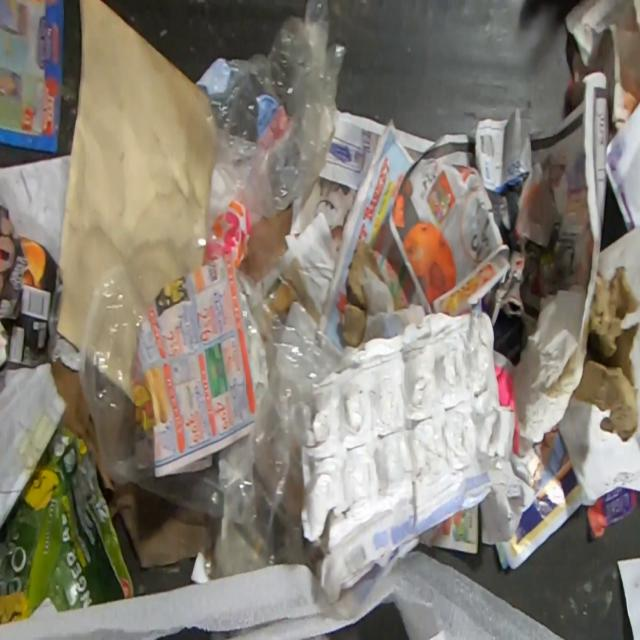cardboard: (50, 358, 208, 570), (0, 424, 135, 626), (573, 265, 640, 445), (0, 202, 65, 374), (340, 237, 386, 347)
rigid_plastic: (300, 311, 517, 551)
soft_plastic: (67, 190, 344, 580), (194, 0, 349, 219)
